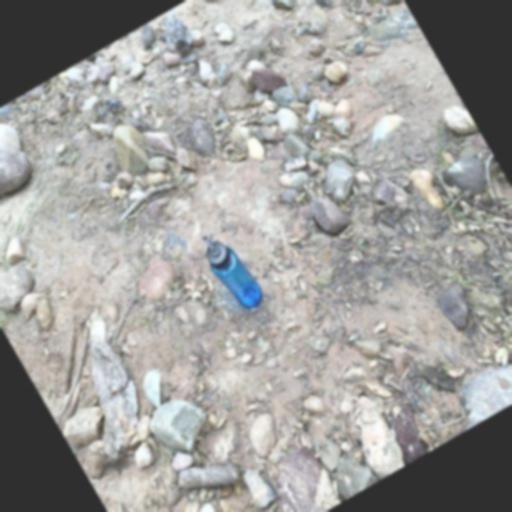bottle: (195, 224, 268, 316)
